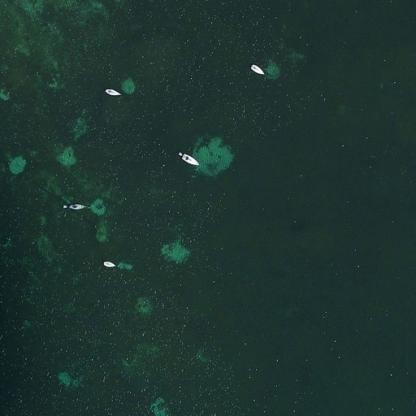ship: (172, 148, 203, 168), (58, 199, 90, 215), (246, 60, 268, 78), (100, 85, 125, 99), (99, 257, 120, 271)
